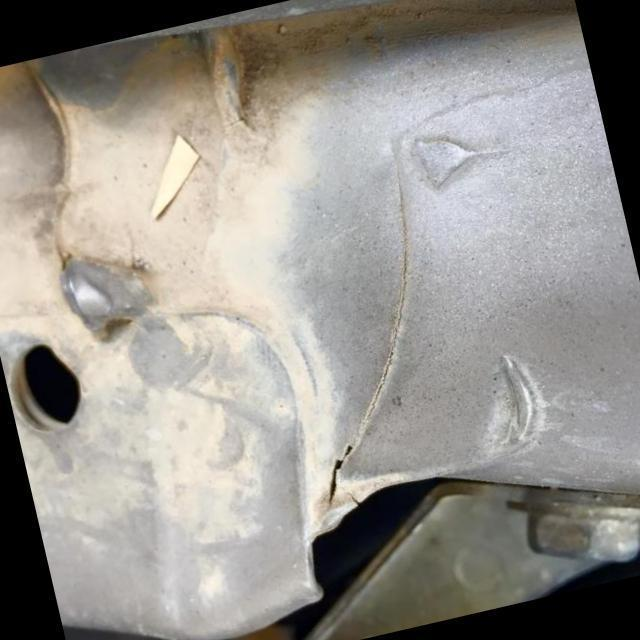defect: (325, 121, 410, 508), (344, 488, 361, 504)
